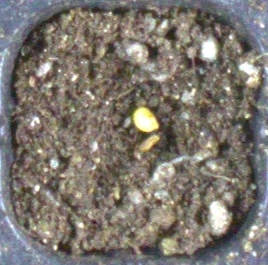chilli seed: (132, 107, 158, 131), (139, 134, 159, 151)
